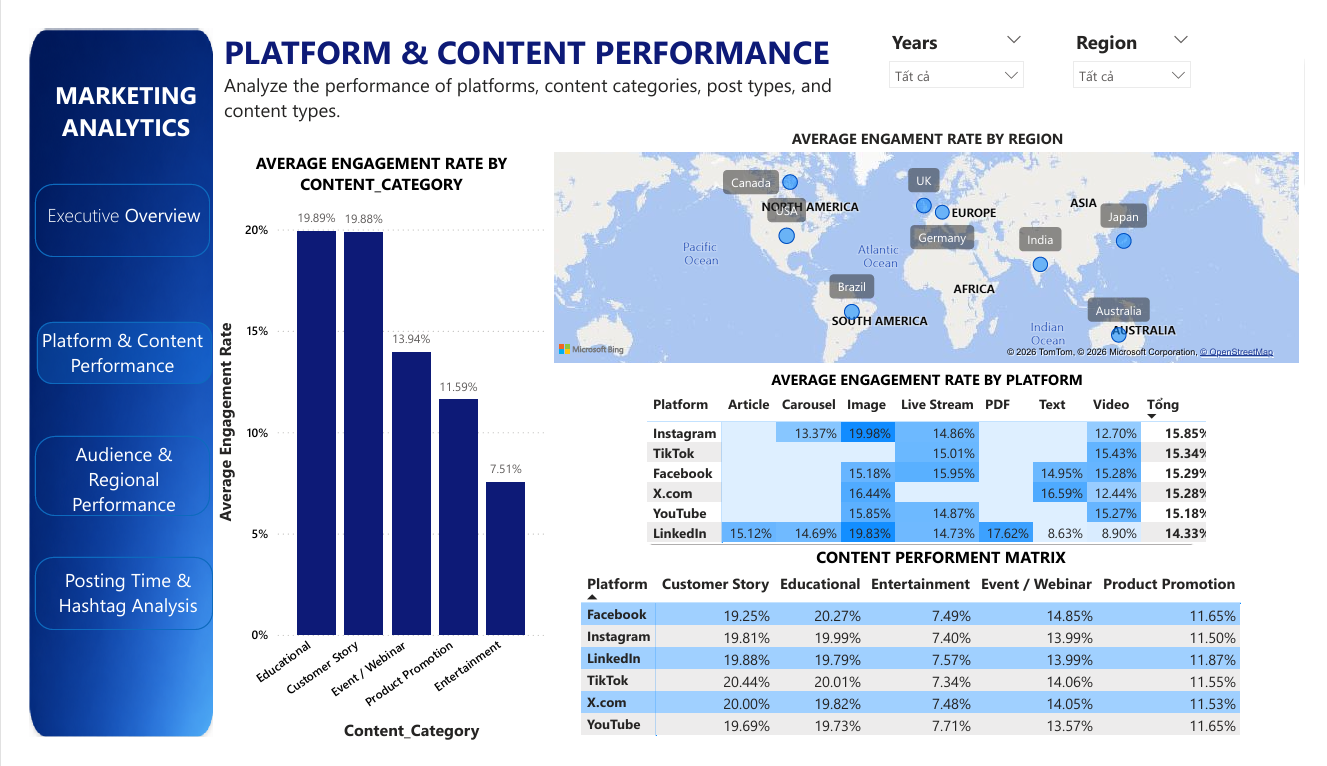

Layout of this report page (visuals, bound fields, positions):
{"tool":"powerbi","page":{"name":"Platform & Content Performance","canvas":[1280,720],"ordinal":1},"visuals":[{"type":"pivotTable","title":"AVERAGE ENGAGEMENT RATE BY PLATFORM","fields":{"Rows":["Sheet1.Platform"],"Columns":["Sheet1.Post_Type"],"Values":["Sheet1.Average Engagement Rate"]},"box":[617.9,344.5,568.2,188.8],"z":0},{"type":"pivotTable","title":"CONTENT PERFORMENT MATRIX","fields":{"Values":["Sheet1.Average Engagement Rate"],"Rows":["Sheet1.Platform"],"Columns":["Sheet1.Content_Category"]},"box":[551.6,521.8,728.9,197.1],"z":1000},{"type":"clusteredColumnChart","title":"AVERAGE ENGAGEMENT RATE BY CONTENT_CATEGORY","fields":{"Category":["Sheet1.Content_Category"],"Y":["Sheet1.Average Engagement Rate"]},"box":[188.1,128.5,337.1,592.2],"z":2000},{"type":"slicer","fields":{"Values":["Sheet1.Post_Published_At.Biến động.Phân cấp ngày tháng.Năm"]},"box":[854.4,0,154.4,91.2],"z":3000},{"type":"slicer","fields":{"Values":["Sheet1.Region"]},"box":[1038.2,0,138.2,90.9],"z":4000},{"type":"textbox","box":[194.2,0,632.7,103.8],"z":5000},{"type":"image","box":[0,0,194.2,719.2],"z":6000},{"type":"textbox","box":[9.6,0,182.7,138.5],"z":7000},{"type":"shape","box":[9.6,159.6,175,73.1],"z":8000},{"type":"shape","box":[11.5,298.1,175,61.5],"z":9000},{"type":"shape","box":[9.6,411.5,175,80.8],"z":10000},{"type":"shape","box":[9.6,532.7,178.8,73.1],"z":11000},{"type":"textbox","box":[9.6,173.1,178.8,59.6],"z":12000},{"type":"textbox","box":[9.6,298.1,175,94.2],"z":13000},{"type":"textbox","box":[9.6,411.5,178.8,96.2],"z":14000},{"type":"textbox","box":[11.5,538.5,182.7,59.6],"z":15000},{"type":"map","title":"AVERAGE ENGAMENT RATE BY REGION","fields":{"Category":["Sheet1.Region"],"Size":["Sum(Sheet1.Engagement)"]},"box":[525.1,104.4,755.4,240.2],"z":16000}]}

Visuals, with their boxes in screenshot pixels (x1, y1, x2, y2), scaled from the page's 1280x720 canvas onto the 1327x766 screenshot:
"AVERAGE ENGAGEMENT RATE BY PLATFORM" pivotTable: box=[641, 367, 1230, 567]
"CONTENT PERFORMENT MATRIX" pivotTable: box=[572, 555, 1326, 765]
"AVERAGE ENGAGEMENT RATE BY CONTENT_CATEGORY" clusteredColumnChart: box=[195, 137, 544, 765]
slicer - Sheet1.Post_Published_At.Biến động.Phân cấp ngày tháng.Năm: box=[886, 0, 1046, 97]
slicer - Sheet1.Region: box=[1076, 0, 1220, 97]
textbox: box=[201, 0, 857, 110]
image: box=[0, 0, 201, 765]
textbox: box=[10, 0, 199, 147]
shape: box=[10, 170, 191, 248]
shape: box=[12, 317, 193, 383]
shape: box=[10, 438, 191, 524]
shape: box=[10, 567, 195, 645]
textbox: box=[10, 184, 195, 248]
textbox: box=[10, 317, 191, 417]
textbox: box=[10, 438, 195, 540]
textbox: box=[12, 573, 201, 636]
"AVERAGE ENGAMENT RATE BY REGION" map: box=[544, 111, 1326, 367]
